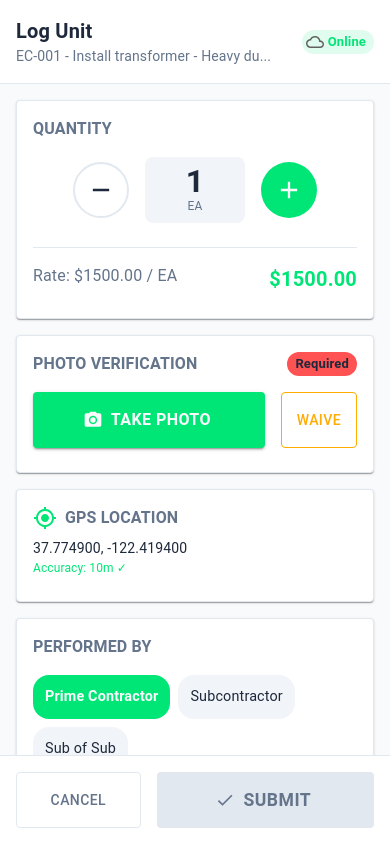
UnitEntryForm Component › Photo Waiver › should enable submit with valid reason
The width and height of the screenshot is (390, 844).
Click the button "Waive": (319, 420) [281, 392, 357, 448]
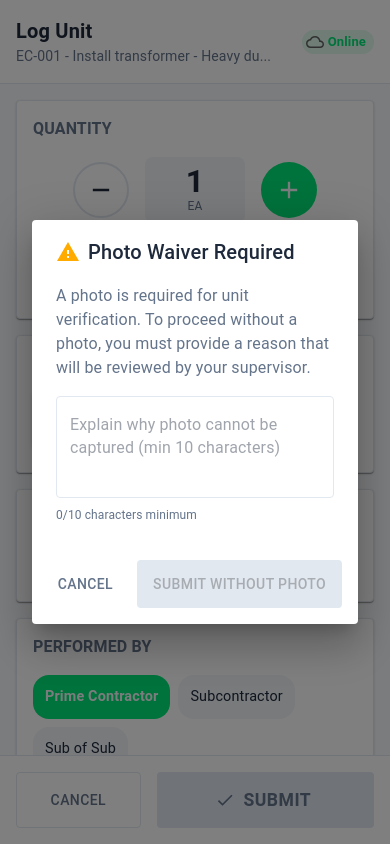
In the text box with placeholder "Explain why photo cannot be captured (min 10 characters)": (195, 447) [70, 412, 320, 482], type "Safety hazard prevents photo capture"
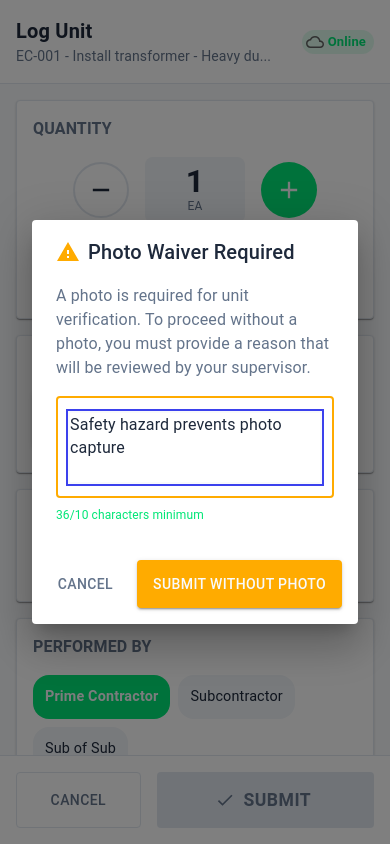
Result: the button "Submit Without Photo" is enabled at [137, 560, 342, 608]
